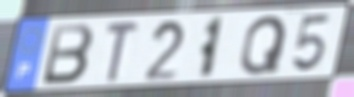1: (201, 13, 227, 81)
2: (141, 18, 190, 82)
5: (291, 13, 333, 74)
B: (40, 22, 97, 87)
Q: (237, 13, 290, 78)
T: (103, 20, 142, 84)
